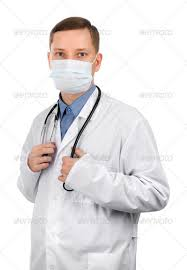masked: (45, 15, 102, 103)
